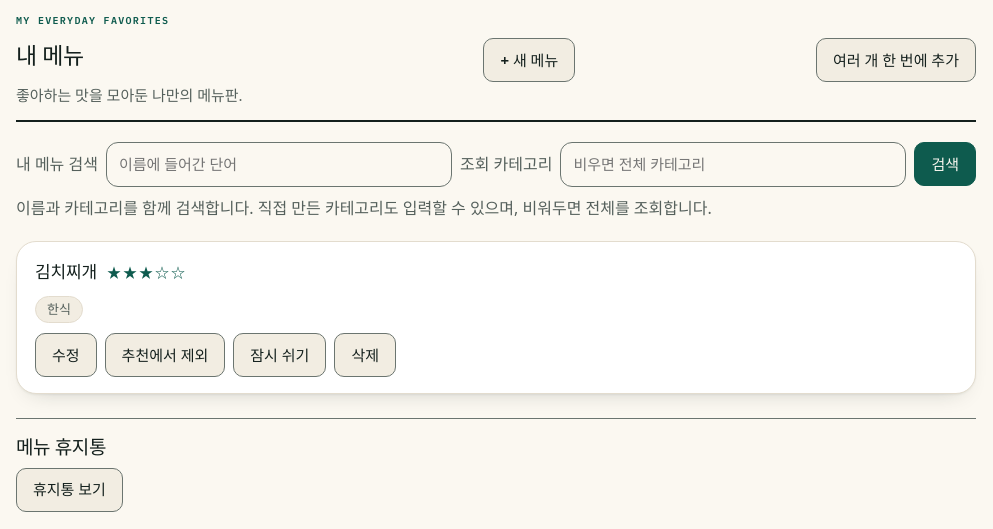
Test case: 메뉴 이름 검색 › 검색 결과가 없으면 전체 메뉴가 비었다는 안내 대신 검색 안내를 보여준다
Type "없는메뉴" into the search field labelled "내 메뉴 검색" at (279,164), box [106,142,452,187]
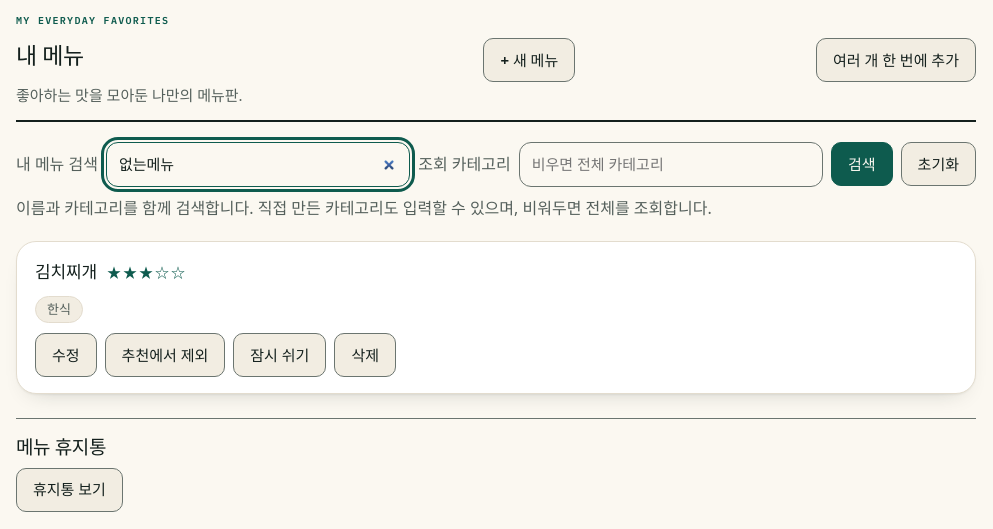
Click the button "검색" at (862,164), box [831,142,893,186]
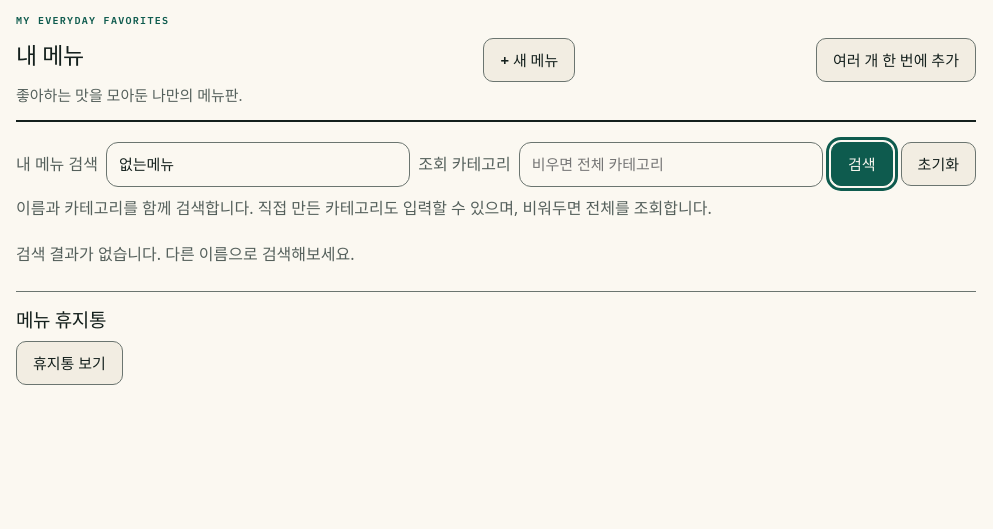
Check: the text "검색 결과가 없습니다. 다른 이름으로 검색해보세요." is shown, box [16,243,354,265]
